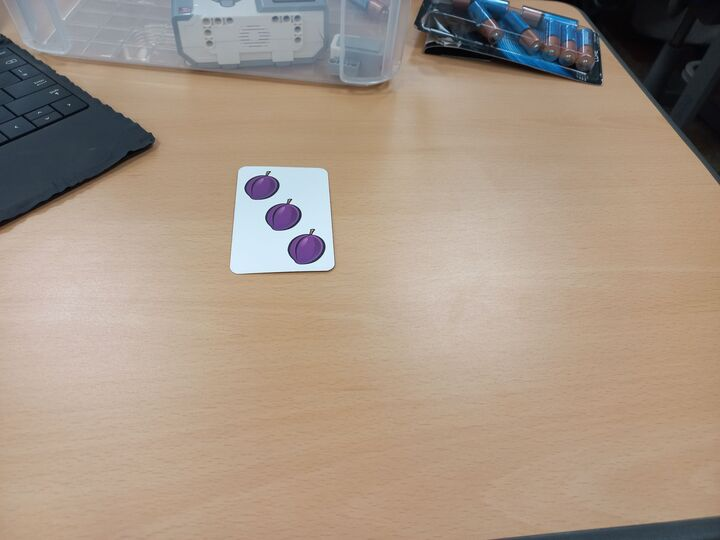plum3: (229, 165, 337, 273)
